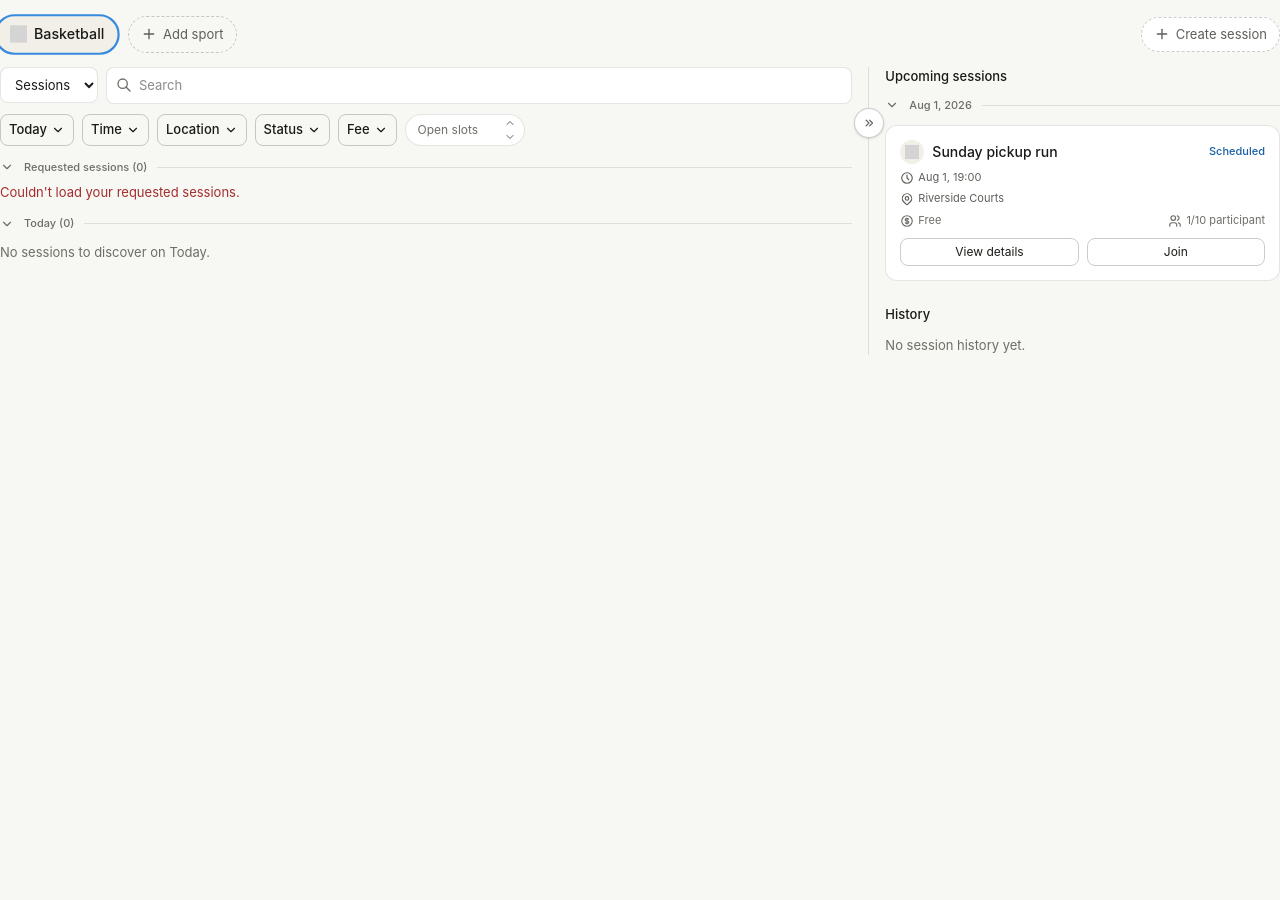
Scenario: MatchesPage › clicking an Upcoming sessions card opens the detail dialog
Expected: the text "Sunday pickup run" is shown, [932,143,1058,160]
Click the button with aria-label "Sunday pickup run — View details": (989, 252) [900,238,1079,266]
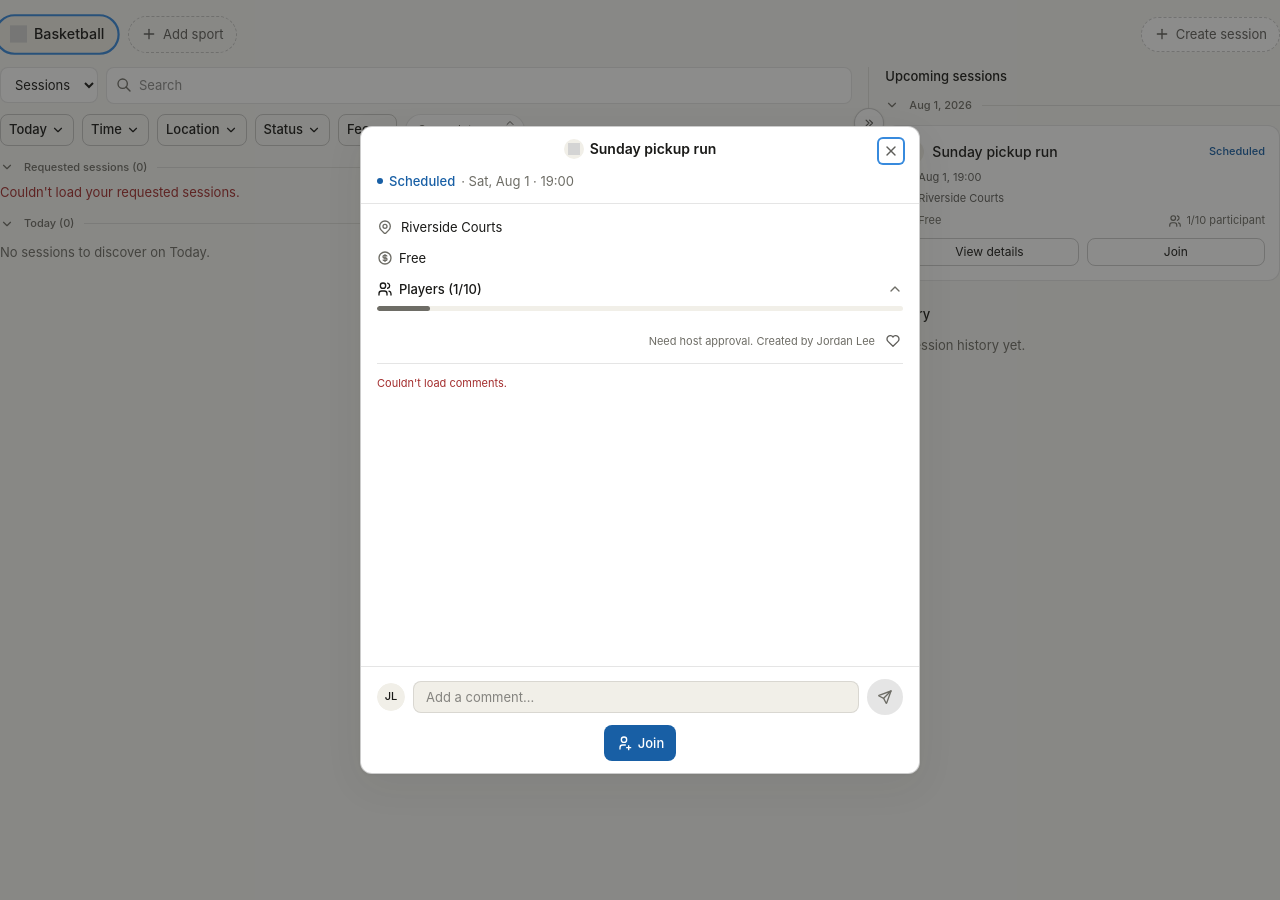
Now the text "Riverside Courts" is shown, box [401,218,502,237]
